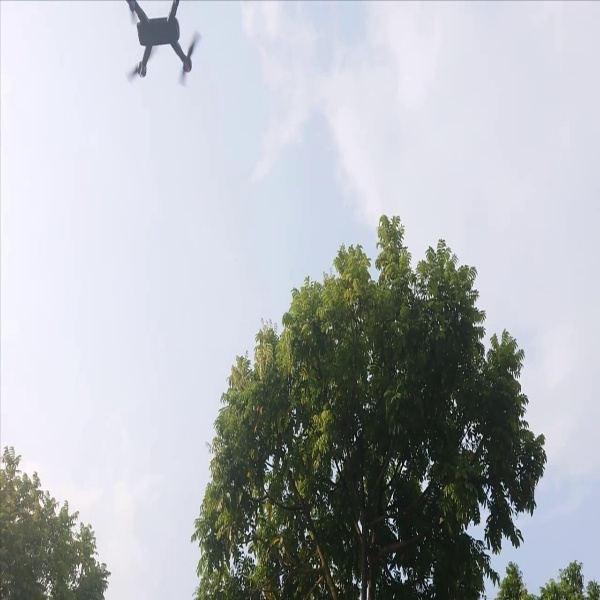drone: (116, 1, 215, 94)
